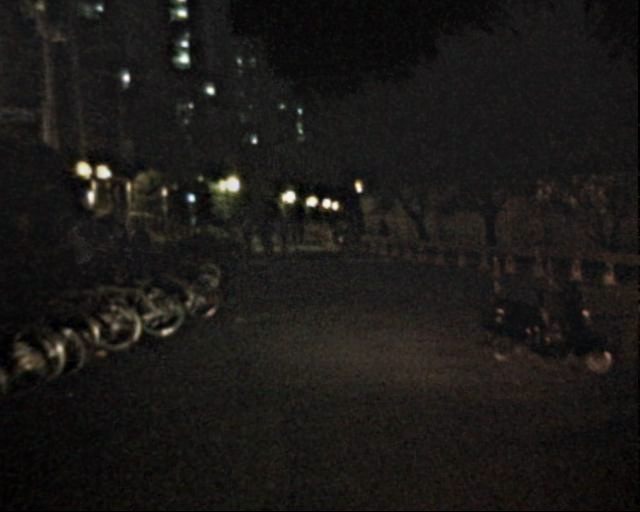person: (70, 224, 92, 277), (117, 218, 137, 266), (137, 222, 155, 267), (271, 215, 289, 259), (256, 220, 272, 260), (377, 217, 393, 255), (238, 216, 252, 250), (291, 220, 308, 244), (224, 215, 237, 246)
